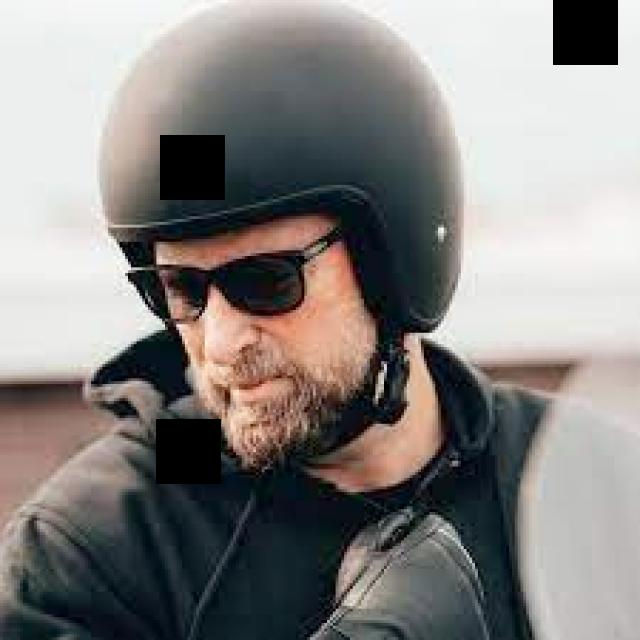Helmet: (71, 0, 506, 479)
